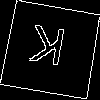K: (26, 24, 68, 76)
